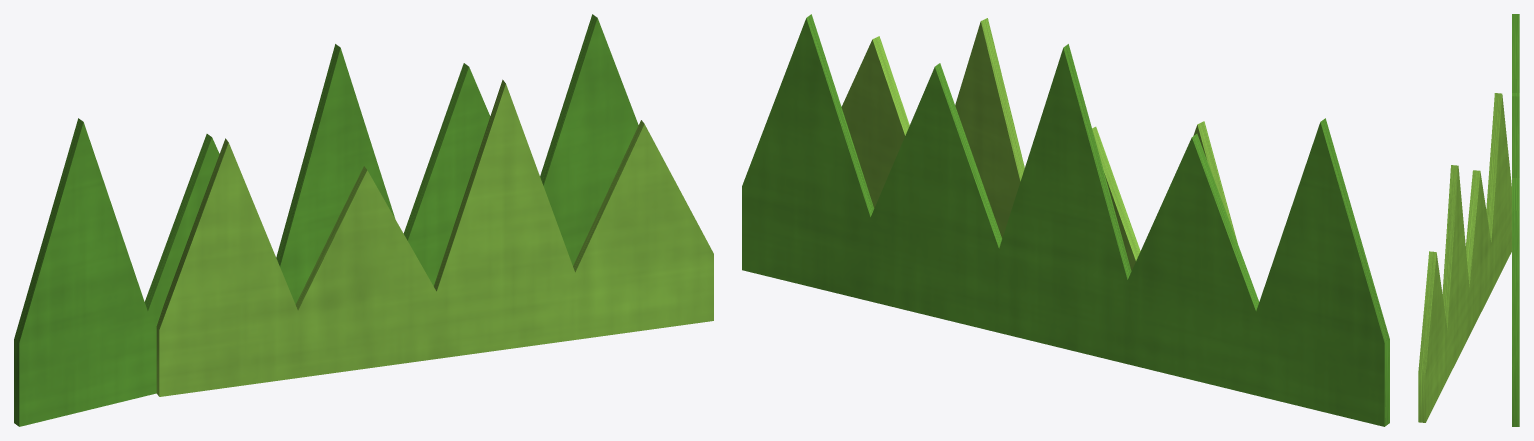
File: grass_tuft_00.gltf
The picture shows the model from 3 angles, left to right: view 1: azimuth 30°, elevation 25°; view 2: azimuth 150°, elevation 25°; view 3: azimuth 270°, elevation 25°; orthographic projection. The views are drawn at different scales.
Visible parts, largest first — view 1: grass_tuft_00; view 2: grass_tuft_00; view 3: grass_tuft_00.
Part boxes in pixels (x1,y1,x2,y2): grass_tuft_00: (14,14,713,426); grass_tuft_00: (742,14,1389,426); grass_tuft_00: (1418,14,1519,426).
Size of the model in its own units: 0.7 by 0.3133 by 0.1326.
Materials: 2 (2 with a texture image).
